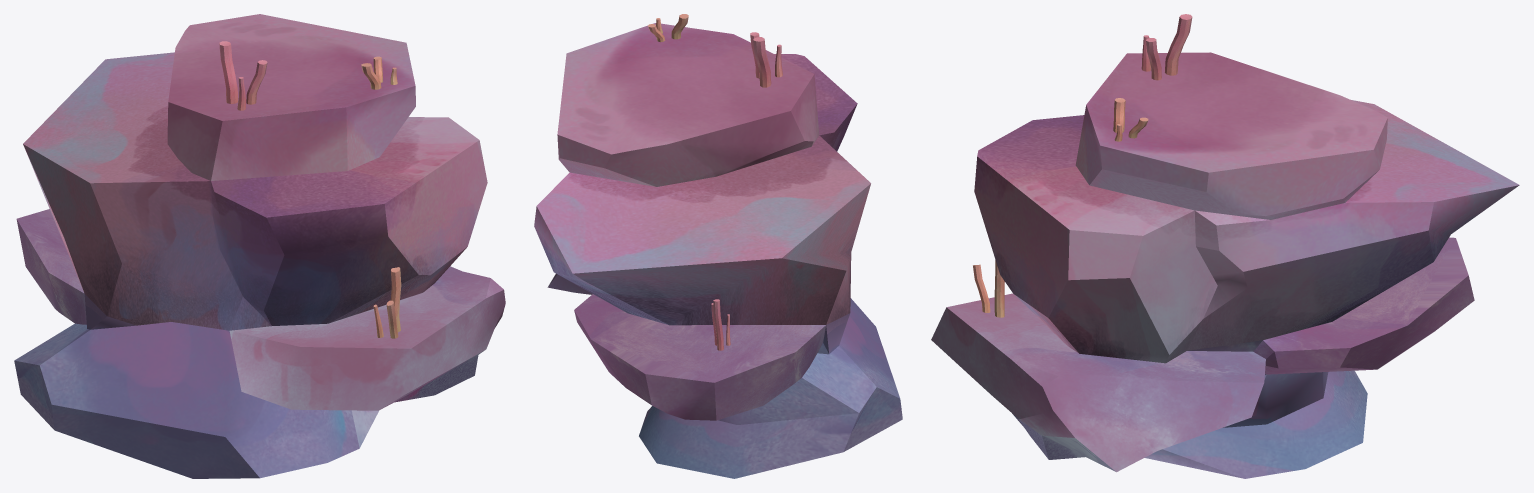
Rendered from CCoral.fbx.
3 renders of one model, left to right at view 1: azimuth 30°, elevation 25°; view 2: azimuth 150°, elevation 25°; view 3: azimuth 270°, elevation 25°, orthographic. The views are drawn at different scales.
Visible parts, largest first — view 1: polySurface1, pCylinder4, pCylinder5, pCylinder6; view 2: polySurface1, pCylinder4, pCylinder7, pCylinder6; view 3: polySurface1, pCylinder4, pCylinder5, pCylinder6.
Boxes of the visible parts, x1,y1,x2,y2 form: polySurface1: (14, 14, 505, 478); pCylinder4: (219, 41, 267, 110); pCylinder5: (373, 267, 401, 338); pCylinder6: (361, 56, 397, 89); polySurface1: (534, 23, 902, 478); pCylinder4: (750, 32, 782, 87); pCylinder7: (711, 299, 730, 350); pCylinder6: (648, 14, 688, 42); polySurface1: (931, 52, 1519, 478); pCylinder4: (1141, 14, 1192, 80); pCylinder5: (973, 260, 1004, 317); pCylinder6: (1113, 98, 1148, 141).
Bounding box in the file's own units: 12.59 × 12.04 × 15.44.
3 materials, 3 textured.
